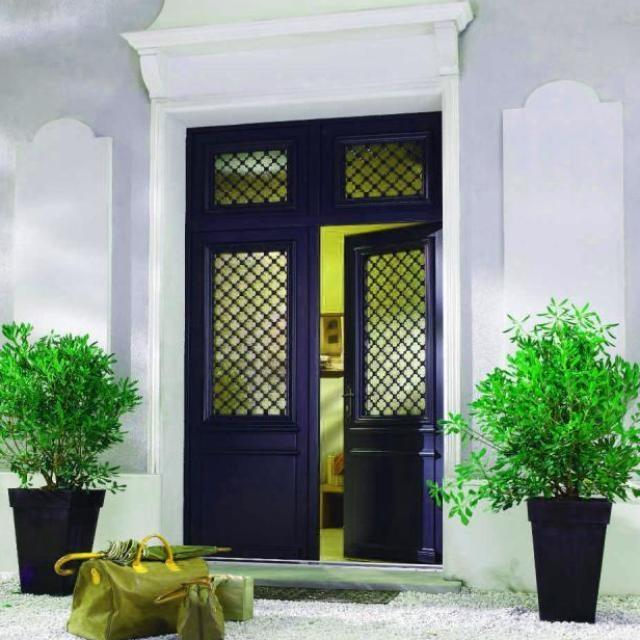door: (341, 226, 443, 564)
